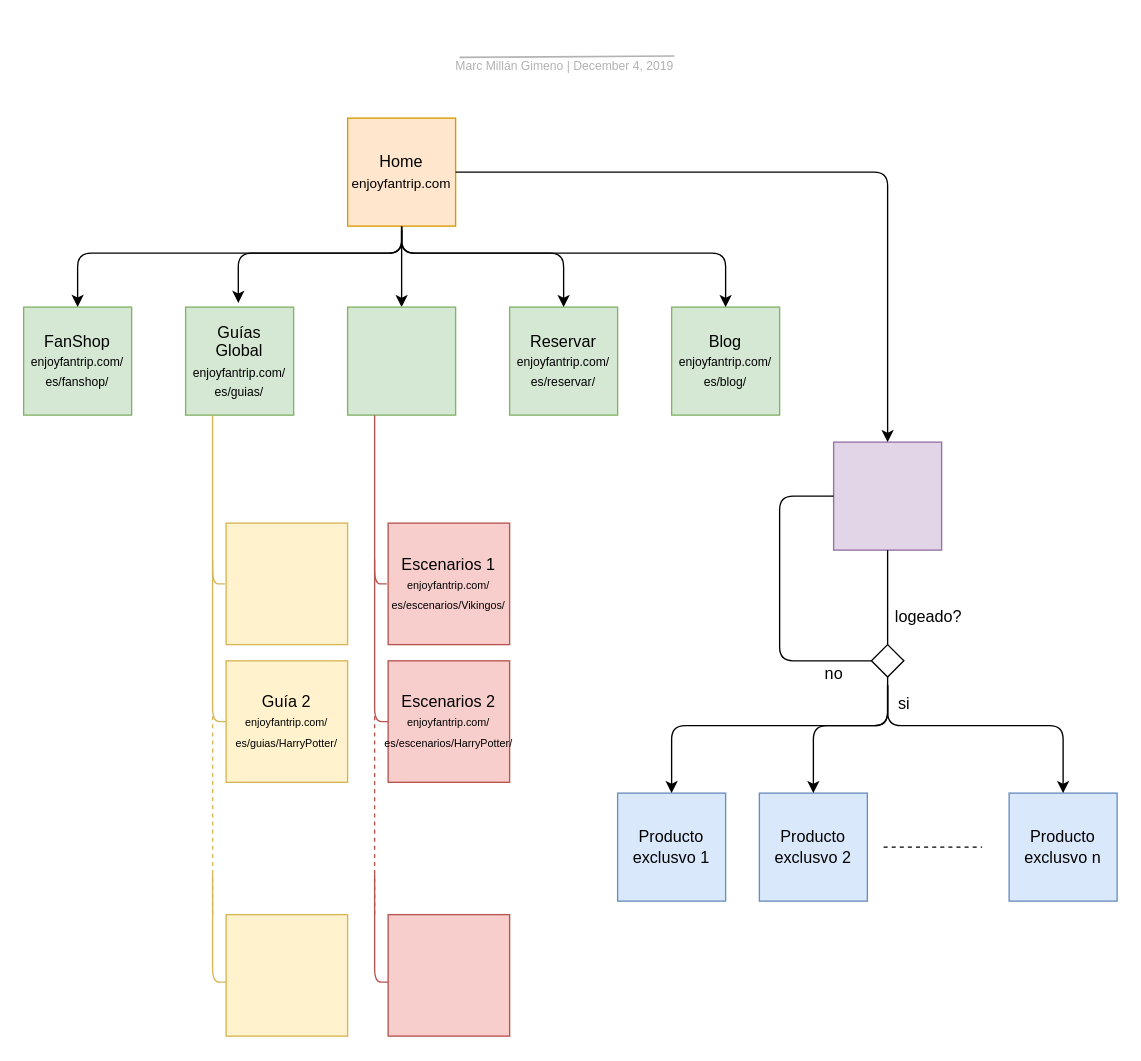
The diagram is 1141 pixels wide and 1061 high, and some of its shapes have lost their labels. The shapes that lost their labels are listed below. From the top down, each one's centre as x and y in pixels, then its label:
the point at 567,40: Fantrip
the point at 401,360: Escenarios Global enjoyfantrip.com/ es/escenarios/
the point at 887,495: Registrar enjoyfantrip.com/ es/login/
the point at 286,583: Guía 1 enjoyfantrip.com/ es/guias/Vikingos/
the point at 286,974: Guía n enjoyfantrip.com/ es/guias/guiaN/
the point at 448,974: Escenarios n enjoyfantrip.com/ es/escenarios/EscenarioN/
